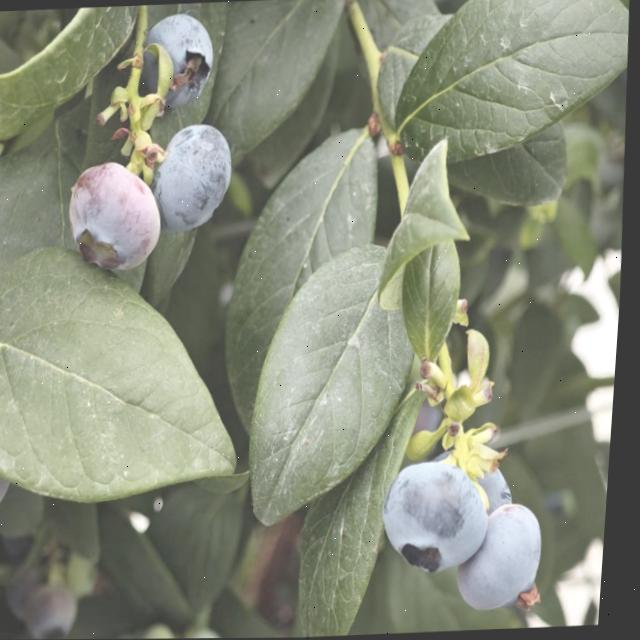RipeBlueBerry: (387, 457, 498, 582), (466, 505, 556, 612), (155, 122, 239, 235), (145, 13, 219, 110)
Semi-RipeBlueBerry: (66, 160, 166, 273)
